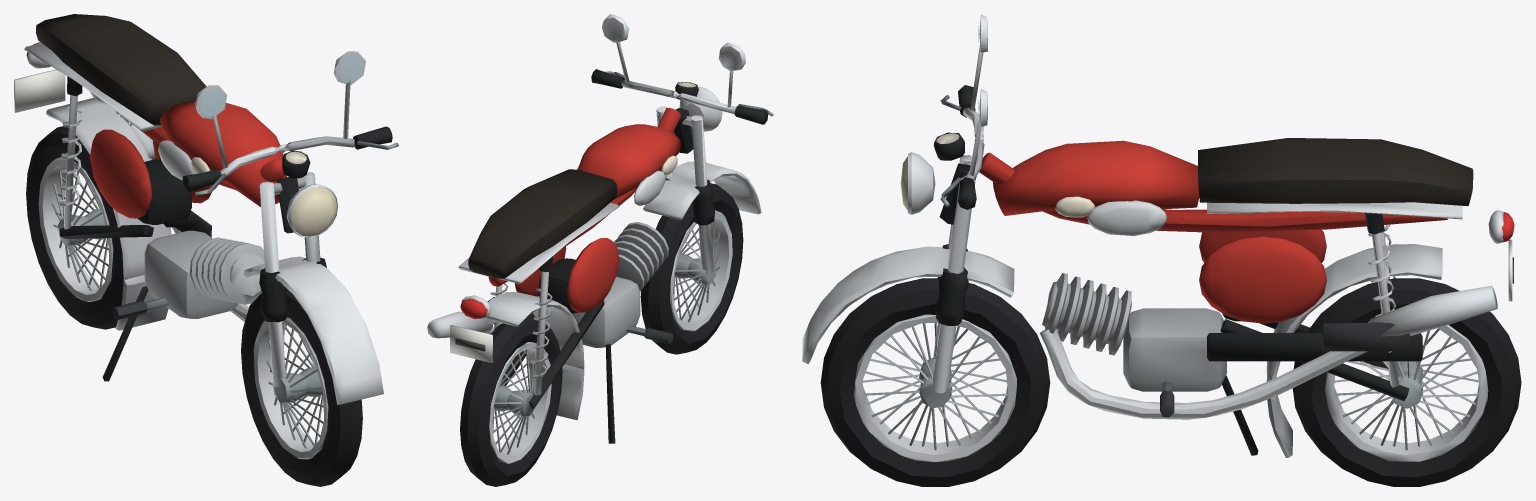
The model's file is veh-honda67.glb.
The picture shows the model from 3 angles, left to right: view 1: azimuth 30°, elevation 25°; view 2: azimuth 150°, elevation 25°; view 3: azimuth 270°, elevation 25°; orthographic projection. The views are drawn at different scales.
Parts seen in each view (by area): view 1: body, wheel0, wheel1; view 2: body, wheel1, wheel0; view 3: body, wheel0, wheel1.
Boxes of the visible parts, bbox=[...] form: body: bbox=[14, 14, 398, 404]; wheel0: bbox=[241, 288, 362, 486]; wheel1: bbox=[26, 126, 123, 329]; body: bbox=[427, 14, 773, 443]; wheel1: bbox=[460, 315, 562, 486]; wheel0: bbox=[640, 183, 743, 354]; body: bbox=[802, 14, 1514, 457]; wheel0: bbox=[820, 278, 1050, 486]; wheel1: bbox=[1292, 278, 1521, 486].
Size of the model in its own units: 0.65 by 1.19 by 1.8.
